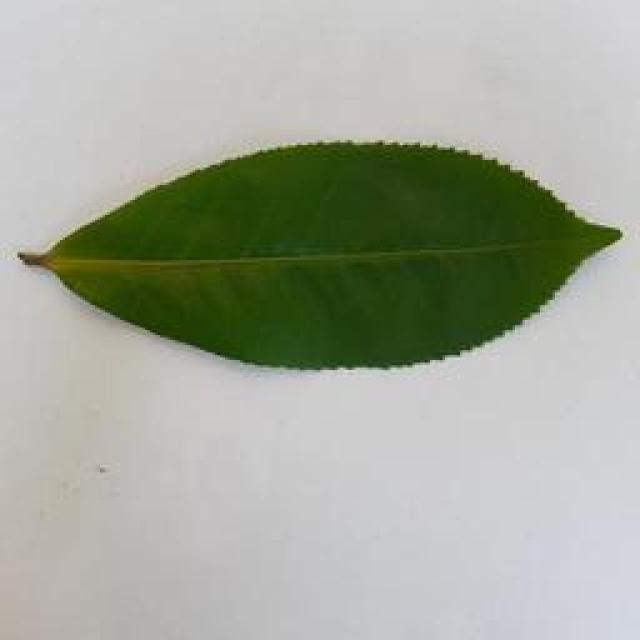Healthy: (10, 122, 630, 379)
